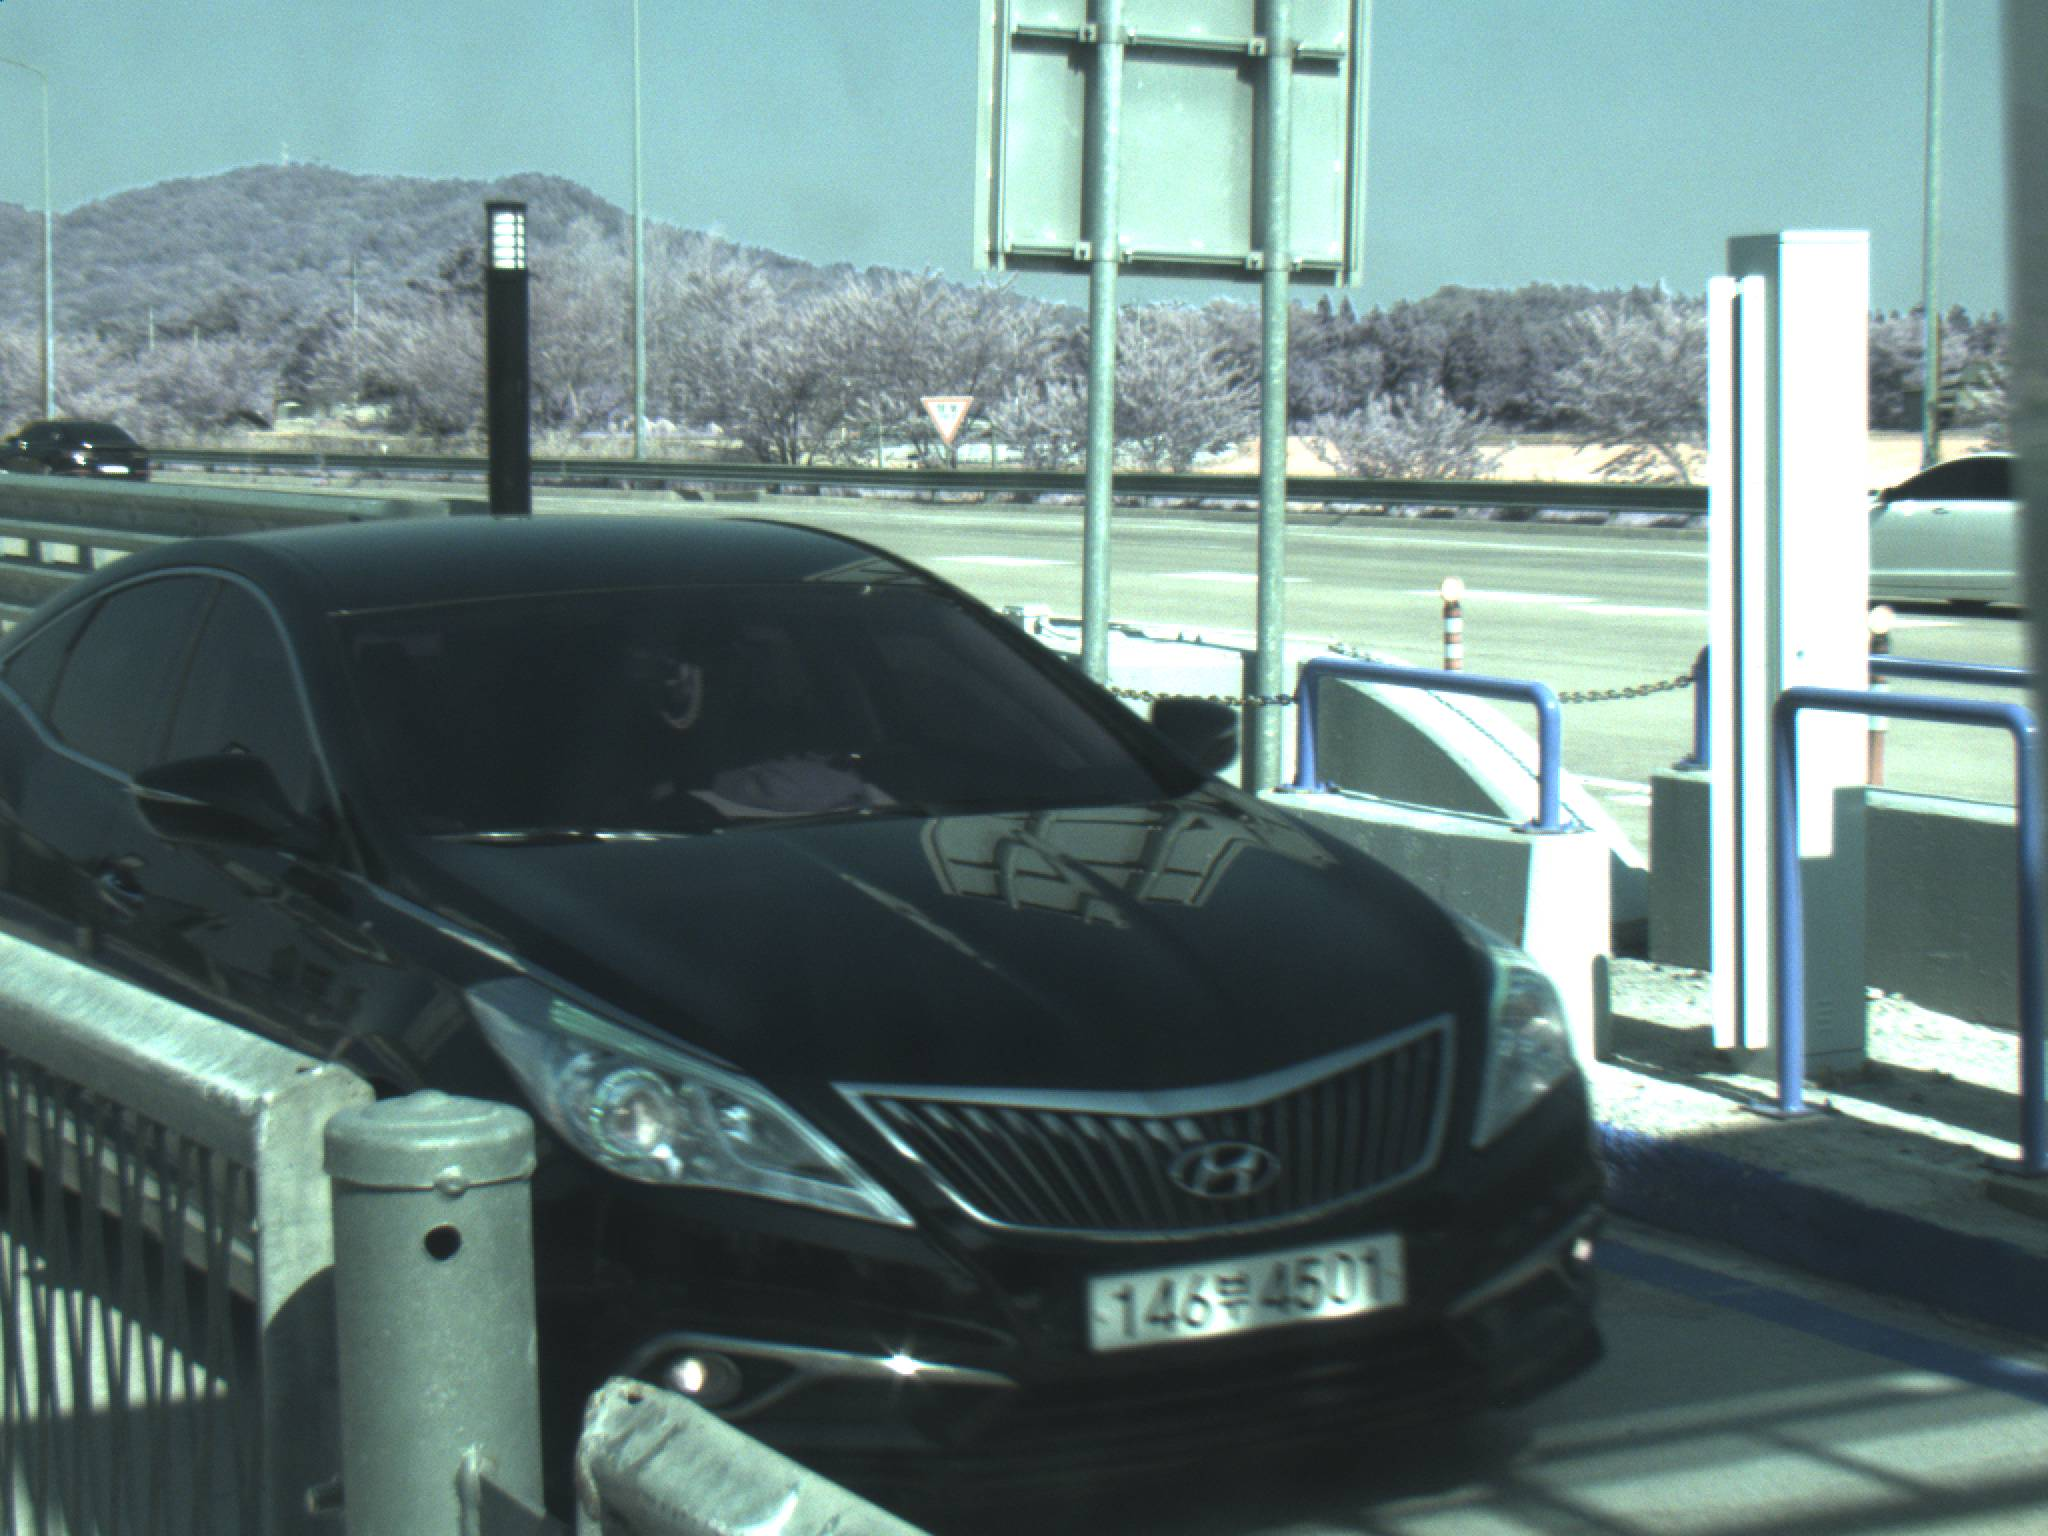car: (4, 504, 1621, 1504)
plate: (1080, 1230, 1412, 1362)
